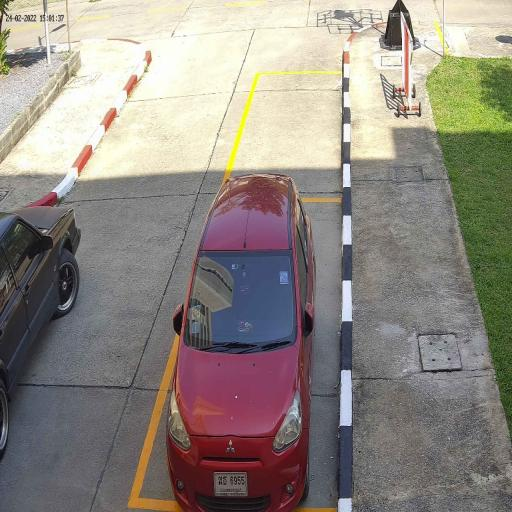car: (165, 173, 316, 512), (0, 205, 82, 459)
